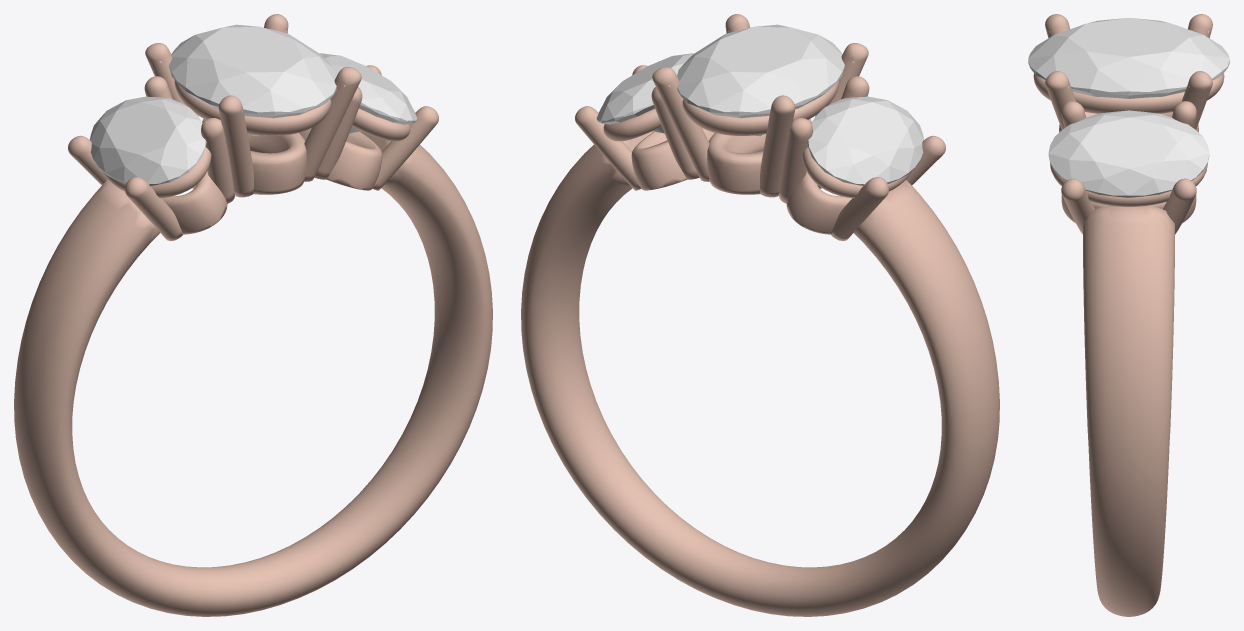
File: diamond-oval-rosegold-4prong-taperedband-3stone.glb
3 views of the same model, side by side, from view 1: azimuth 30°, elevation 25°; view 2: azimuth 150°, elevation 25°; view 3: azimuth 270°, elevation 25° (orthographic).
Visible parts, largest first — view 1: metal, stone, side.001, side; view 2: metal, stone, side.001, side; view 3: metal, stone, side.
Boxes of the visible parts, left/top/right/bottom form: metal: left=14, top=14, right=492, bottom=616; stone: left=169, top=24, right=336, bottom=136; side.001: left=89, top=96, right=206, bottom=185; side: left=319, top=53, right=417, bottom=133; metal: left=521, top=14, right=999, bottom=616; stone: left=677, top=24, right=844, bottom=136; side.001: left=807, top=96, right=924, bottom=185; side: left=596, top=53, right=694, bottom=133; metal: left=1033, top=14, right=1224, bottom=616; stone: left=1028, top=18, right=1229, bottom=98; side: left=1048, top=110, right=1209, bottom=197.
Size of the model in its own units: 20.09 by 23.2 by 7.64.
